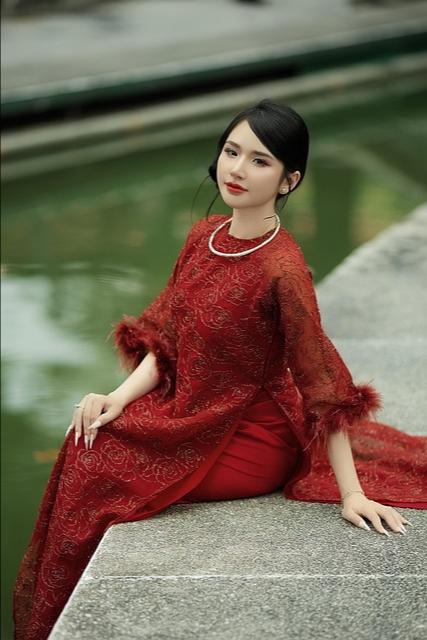Non_Gorille: (55, 34, 427, 640)
